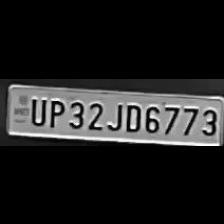2: (85, 98, 105, 130)
3: (198, 104, 218, 136), (64, 97, 84, 128)
6: (141, 102, 161, 132)
7: (178, 104, 198, 134), (160, 102, 178, 134)
D: (122, 100, 142, 132)
J: (105, 99, 121, 130)
P: (44, 96, 64, 128)
U: (26, 94, 46, 125)
